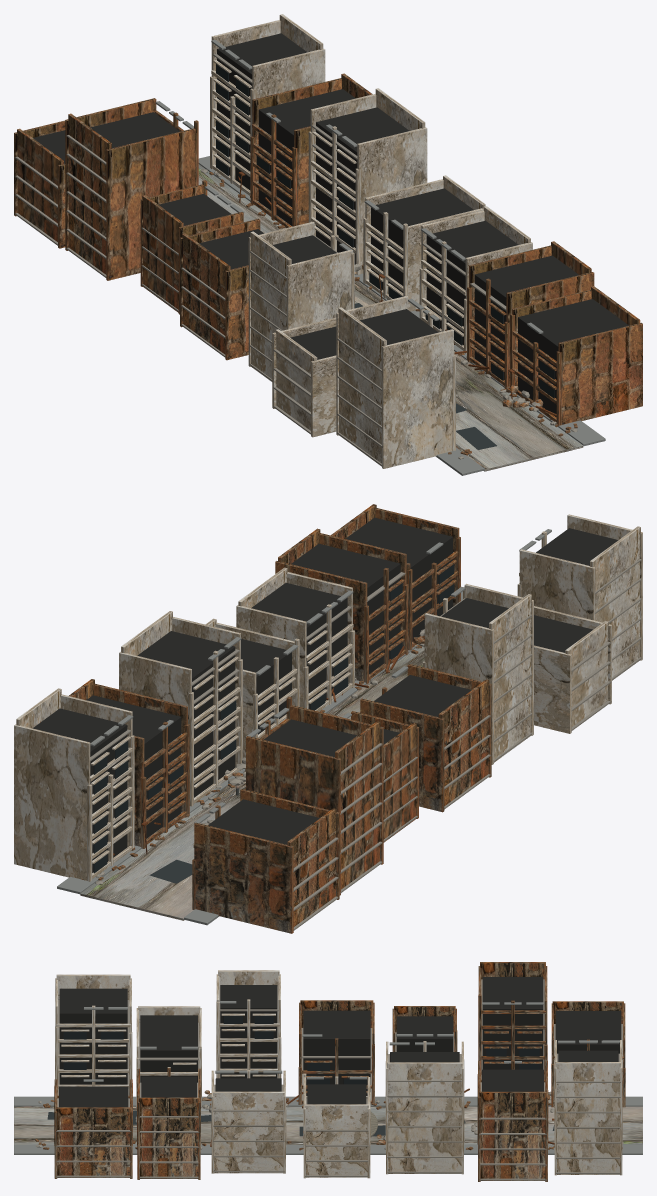
Rendered from urban.glb.
The picture shows the model from 3 angles, top to bottom: view 1: azimuth 30°, elevation 25°; view 2: azimuth 150°, elevation 25°; view 3: azimuth 270°, elevation 25°; orthographic projection. The views are drawn at different scales.
Parts seen in each view (by area): view 1: Ruin_L_0_SideS, WetCobblestoneAvenue, Ruin_L_5_SideS, Ruin_R_0_SideS, Ruin_L_0_Rear, Ruin_L_5_Rear, Ruin_R_0_Interior, Ruin_R_4_SideS, Ruin_L_2_SideS, Ruin_R_4_Interior, Ruin_L_2_Rear, Ruin_L_3_Rear (+43 smaller); view 2: Ruin_R_6_SideN, Ruin_L_6_SideN, WetCobblestoneAvenue, Ruin_L_5_SideN, Ruin_L_2_Rear, Ruin_L_5_Rear, Ruin_R_4_Interior, Ruin_L_0_Rear, Ruin_L_2_SideN, Ruin_L_3_Rear, Ruin_L_0_SideN, Ruin_R_0_Interior (+43 smaller); view 3: Ruin_R_4_Rear, Ruin_R_6_Rear, Ruin_R_5_Rear, Ruin_R_2_Rear, Ruin_R_0_Rear, Ruin_L_0_Interior, Ruin_R_1_Rear, WetCobblestoneAvenue, Ruin_R_3_Rear, Ruin_L_5_Interior, Ruin_L_3_Interior, Ruin_L_2_Interior (+33 smaller).
Part boxes in pixels (x1=…): Ruin_L_0_SideS: x1=382, y1=329, x2=453, y2=468; WetCobblestoneAvenue: x1=198, y1=164, x2=583, y2=471; Ruin_L_5_SideS: x1=106, y1=128, x2=195, y2=280; Ruin_R_0_SideS: x1=558, y1=322, x2=642, y2=424; Ruin_L_0_Rear: x1=338, y1=307, x2=386, y2=466; Ruin_L_5_Rear: x1=68, y1=113, x2=111, y2=274; Ruin_R_0_Interior: x1=518, y1=299, x2=628, y2=417; Ruin_R_4_SideS: x1=357, y1=127, x2=427, y2=273; Ruin_L_2_SideS: x1=287, y1=249, x2=352, y2=329; Ruin_R_4_Interior: x1=316, y1=107, x2=409, y2=264; Ruin_L_2_Rear: x1=250, y1=231, x2=291, y2=381; Ruin_L_3_Rear: x1=182, y1=233, x2=230, y2=354; Ruin_R_6_SideN: x1=14, y1=724, x2=90, y2=880; Ruin_L_6_SideN: x1=194, y1=822, x2=293, y2=933; WetCobblestoneAvenue: x1=80, y1=646, x2=424, y2=920; Ruin_L_5_SideN: x1=246, y1=736, x2=340, y2=895; Ruin_L_2_Rear: x1=489, y1=594, x2=531, y2=762; Ruin_L_5_Rear: x1=335, y1=721, x2=380, y2=889; Ruin_R_4_Interior: x1=137, y1=631, x2=235, y2=797; Ruin_L_0_Rear: x1=590, y1=526, x2=640, y2=680; Ruin_L_2_SideN: x1=424, y1=613, x2=493, y2=764; Ruin_L_3_Rear: x1=438, y1=679, x2=489, y2=805; Ruin_L_0_SideN: x1=519, y1=549, x2=595, y2=620; Ruin_R_0_Interior: x1=345, y1=517, x2=452, y2=641; Ruin_R_4_Rear: x1=387, y1=1062, x2=462, y2=1173; Ruin_R_6_Rear: x1=555, y1=1062, x2=620, y2=1174; Ruin_R_5_Rear: x1=479, y1=1091, x2=546, y2=1180; Ruin_R_2_Rear: x1=213, y1=1091, x2=284, y2=1173; Ruin_R_0_Rear: x1=56, y1=1107, x2=131, y2=1177; Ruin_L_0_Interior: x1=59, y1=988, x2=127, y2=1084; Ruin_R_1_Rear: x1=138, y1=1097, x2=199, y2=1178; WetCobblestoneAvenue: x1=14, y1=1106, x2=642, y2=1144; Ruin_R_3_Rear: x1=304, y1=1104, x2=368, y2=1177; Ruin_L_5_Interior: x1=482, y1=977, x2=543, y2=1069; Ruin_L_3_Interior: x1=303, y1=1010, x2=370, y2=1095; Ruin_L_2_Interior: x1=220, y1=985, x2=277, y2=1078.
Size of the model in its own units: 64.03 by 29.99 by 150.
13 materials, 4 textured.
